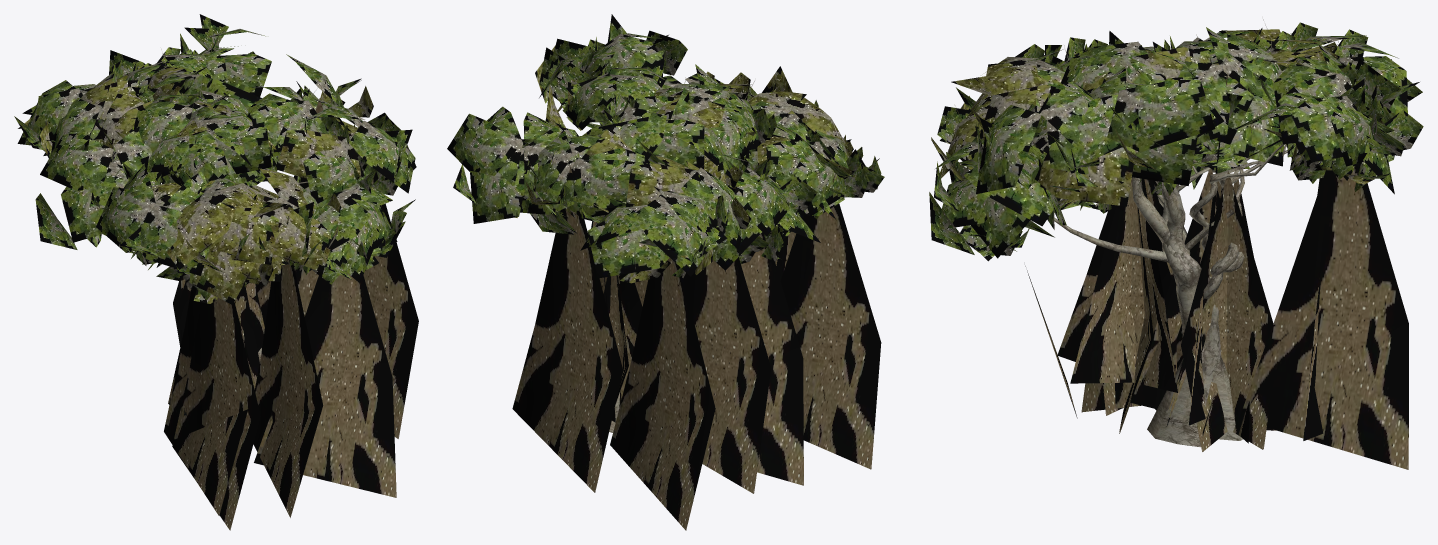
Rendered from Banyan_Hero_Forest_A_685246.glb.
3 views of the same model, side by side, from view 1: azimuth 30°, elevation 25°; view 2: azimuth 150°, elevation 25°; view 3: azimuth 270°, elevation 25° (orthographic). The views are drawn at different scales.
Bounding box in the file's own units: 5.24 × 6.19 × 6.41.
Materials: 2 (2 with a texture image).
